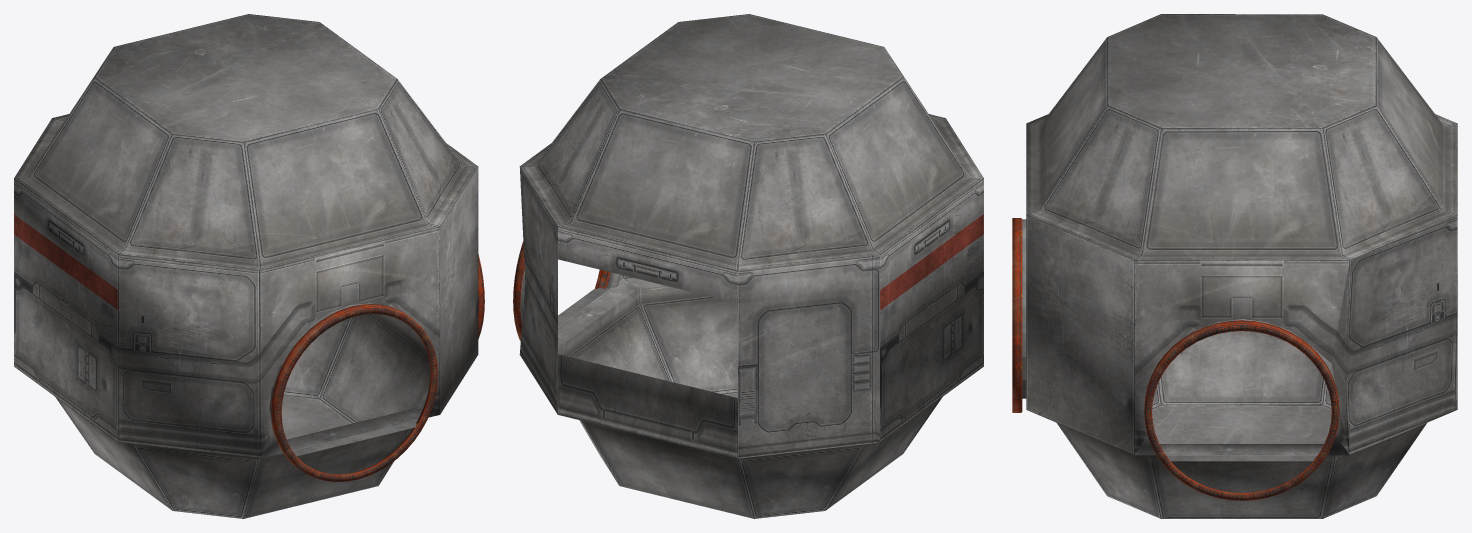
File: 04_02_tau_tunnel_reactorcontrollroom.DAE
3 renders of one model, left to right at view 1: azimuth 30°, elevation 25°; view 2: azimuth 150°, elevation 25°; view 3: azimuth 270°, elevation 25°, orthographic. The views are drawn at different scales.
Visible parts, largest first — view 1: room, pPipe70, polySurface386; view 2: room, pPipe69, polySurface385; view 3: room, pPipe69, pPipe70, polySurface385, polySurface386.
Part boxes in pixels (box(x1,y1,x2,y2)): room: box(14, 14, 478, 518); pPipe70: box(271, 304, 438, 481); polySurface386: box(269, 303, 430, 456); room: box(519, 14, 983, 518); pPipe69: box(513, 241, 610, 340); polySurface385: box(520, 271, 620, 326); room: box(1026, 14, 1457, 518); pPipe69: box(1144, 320, 1339, 500); pPipe70: box(1012, 218, 1022, 412); polySurface385: box(1158, 319, 1348, 461); polySurface386: box(1021, 219, 1026, 398).
Size of the model in its own units: 8.26 by 8 by 8.26.
